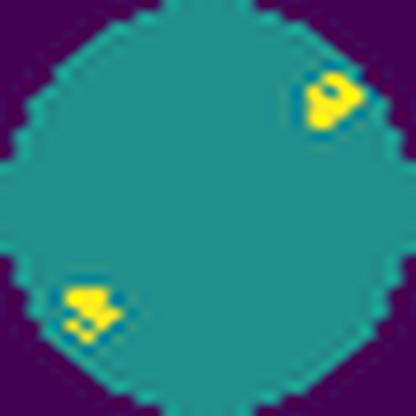Loc: (56, 279, 128, 347), (297, 66, 367, 134)
